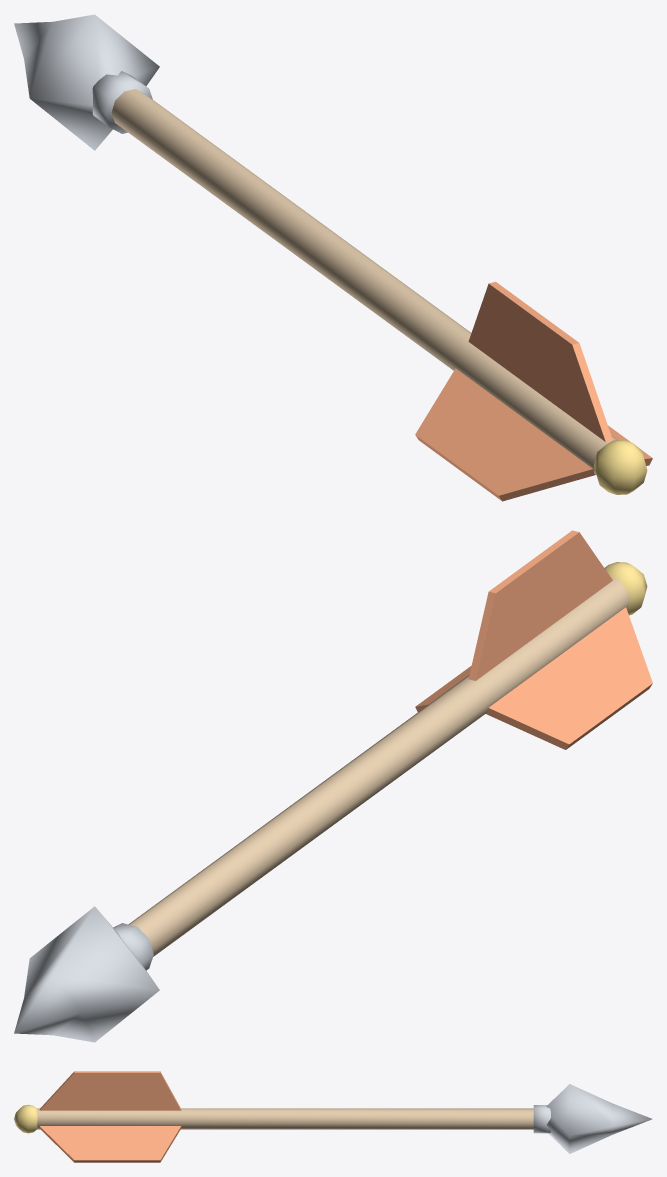
Rendered from AmbushArrow.glb.
The picture shows the model from 3 angles, top to bottom: view 1: azimuth 30°, elevation 25°; view 2: azimuth 150°, elevation 25°; view 3: azimuth 270°, elevation 25°; orthographic projection. The views are drawn at different scales.
Visible parts, largest first — view 1: Shaft, Fletching, Head, Nock; view 2: Shaft, Fletching, Head, Nock; view 3: Shaft, Fletching, Head, Nock.
Part boxes in pixels (bbox=[...]): Shaft: bbox=[111, 89, 617, 474]; Fletching: bbox=[415, 281, 652, 501]; Head: bbox=[14, 14, 159, 150]; Nock: bbox=[594, 440, 647, 494]; Shaft: bbox=[128, 578, 629, 956]; Fletching: bbox=[415, 530, 652, 749]; Head: bbox=[14, 906, 159, 1042]; Nock: bbox=[604, 562, 647, 615]; Shaft: bbox=[36, 1108, 533, 1129]; Fletching: bbox=[39, 1071, 181, 1162]; Head: bbox=[533, 1084, 652, 1153]; Nock: bbox=[14, 1104, 37, 1133].
Size of the model in its own units: 0.6385 by 0.63 by 4.45.
